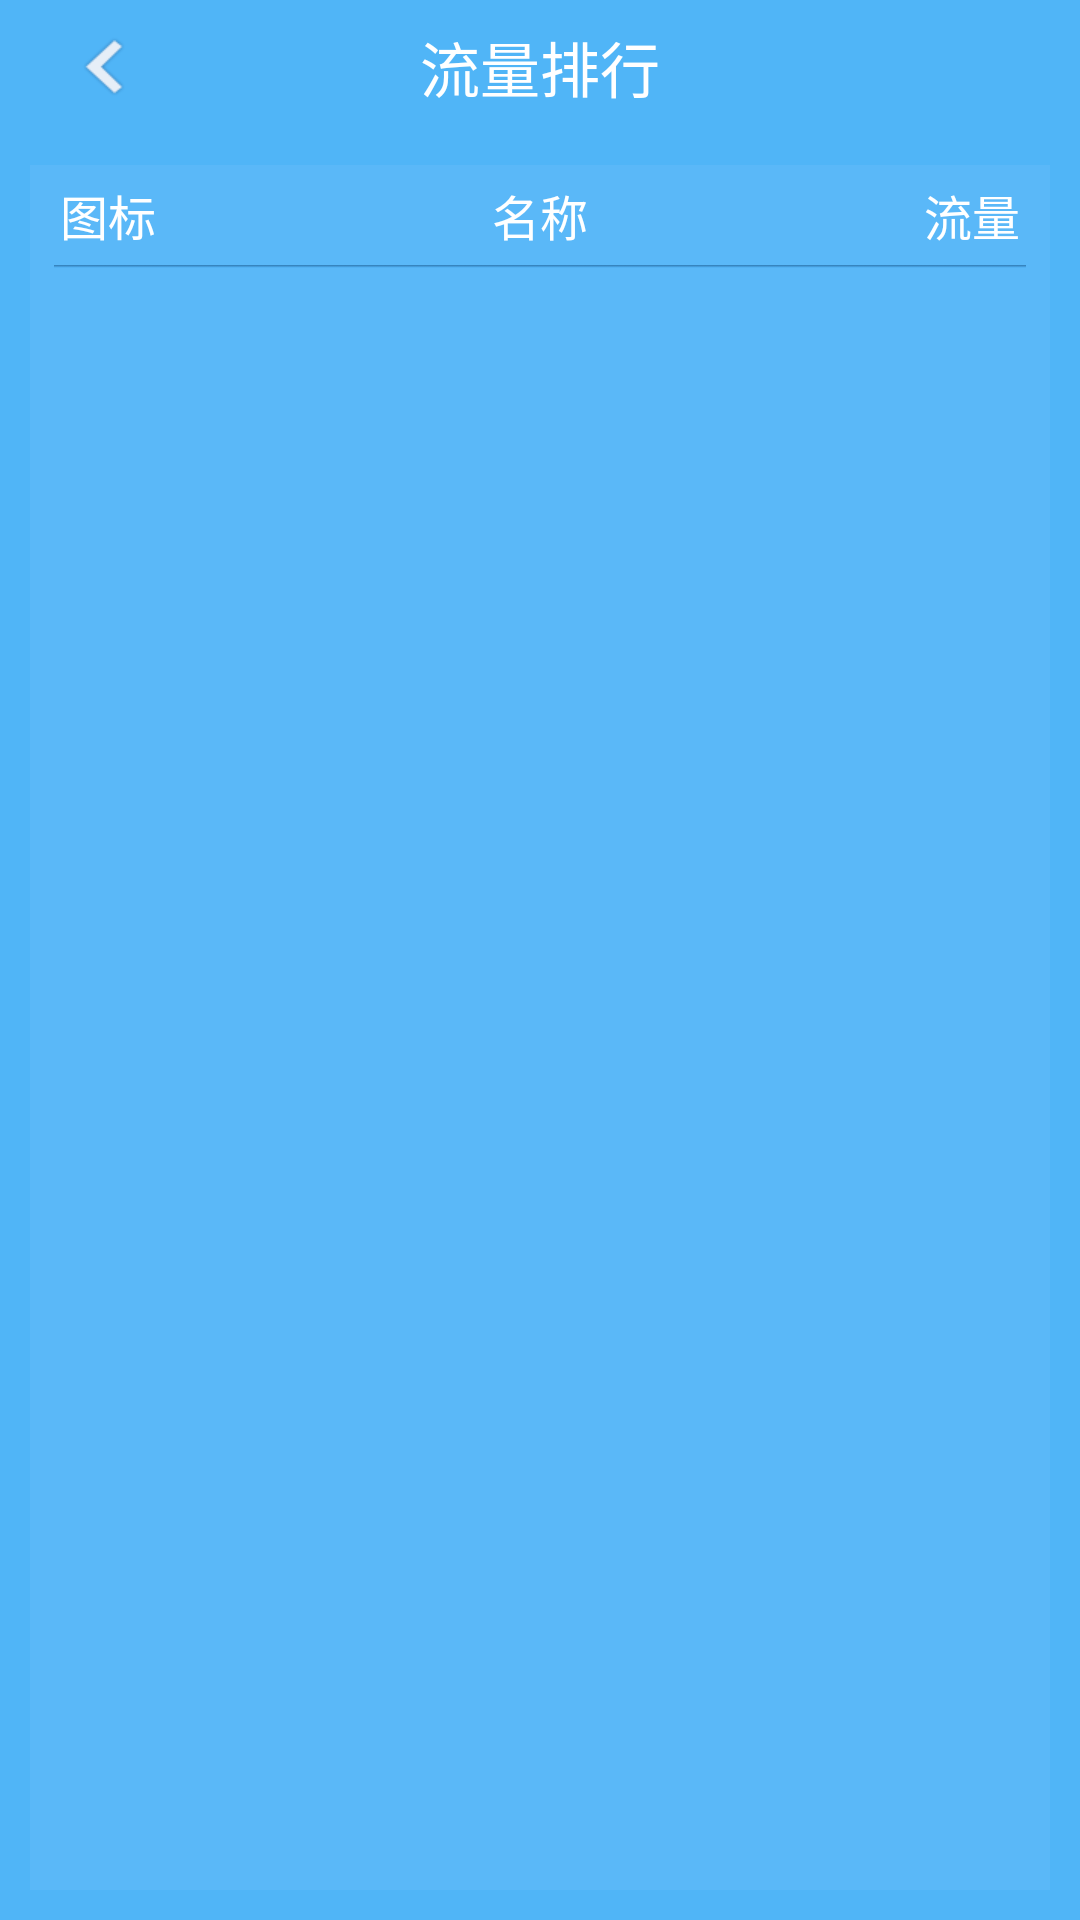

Icons on this 1080px×1920px Android screen, each with its box as bbox=(x1, y1, x2, y2):
toleft: bbox=(86, 40, 122, 93)
